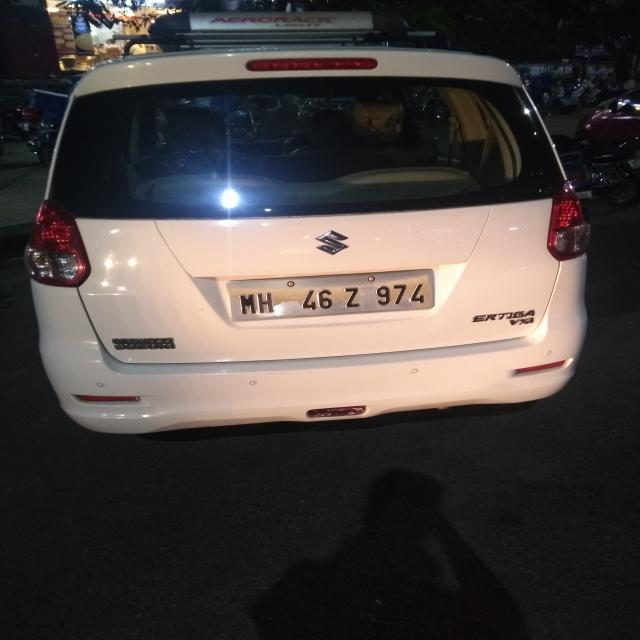Number-Plate: (230, 276, 437, 320)
